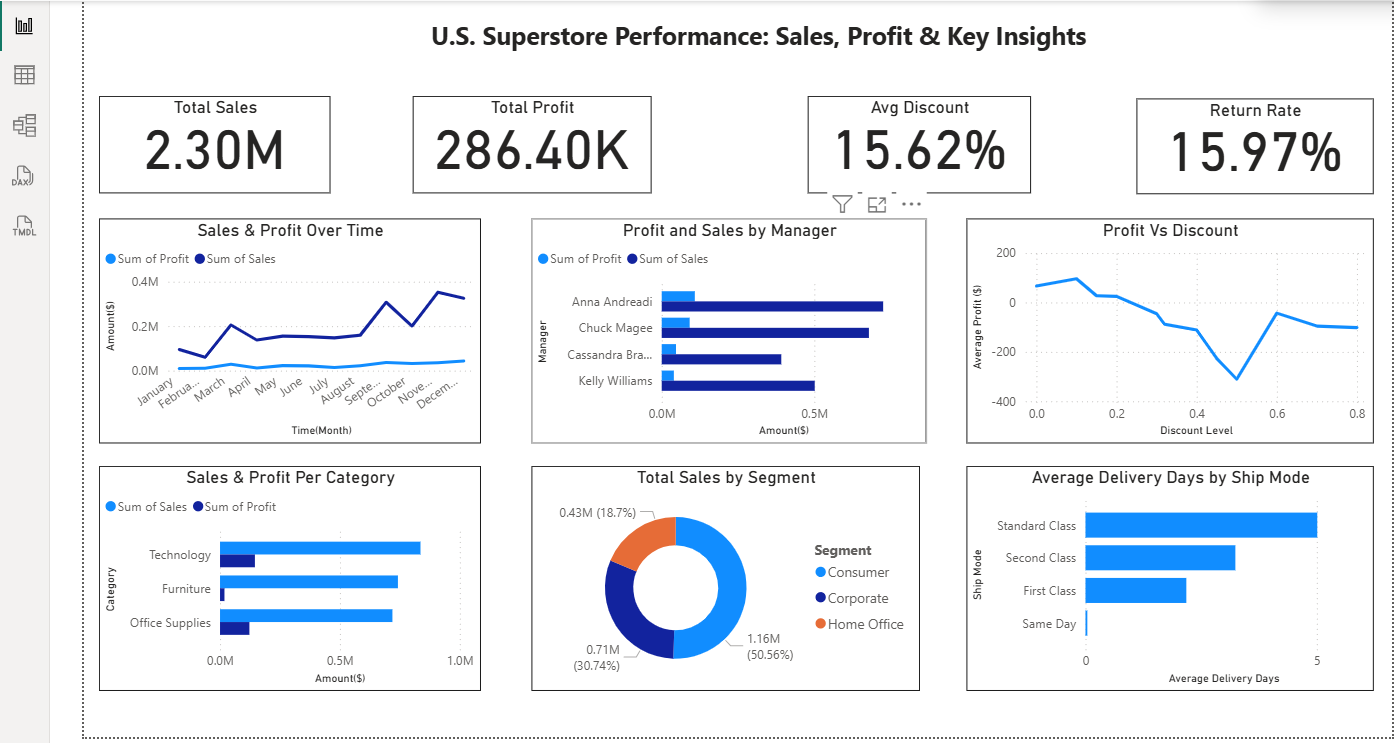

The dashboard page shown, as its layout file describes it:
{"tool":"powerbi","page":{"name":"Page 1","canvas":[1280,720],"ordinal":0},"visuals":[{"type":"card","title":"Total Sales","fields":{"Values":["superstore_dashboard_data.Sales"]},"box":[15,93.3,226.7,95],"z":0},{"type":"card","title":"Total Profit","fields":{"Values":["superstore_dashboard_data.Profit"]},"box":[321.7,93.3,233.3,95],"z":1000},{"type":"card","title":"Avg Discount","fields":{"Values":["superstore_dashboard_data.Discount"]},"box":[708.3,93.3,218.3,95],"z":2000},{"type":"card","title":"Return Rate","fields":{"Values":["superstore_dashboard_data.Return Rate"]},"box":[1030,95,231.7,93.3],"z":3000},{"type":"lineChart","title":"Sales & Profit Over Time","fields":{"Y":["superstore_dashboard_data.Profit","superstore_dashboard_data.Sales"],"Category":["superstore_dashboard_data.Order Date.Variation.Date Hierarchy.Month"]},"box":[15,213.3,373.3,220],"z":4000},{"type":"clusteredBarChart","title":"Sales & Profit Per Category","fields":{"Y":["superstore_dashboard_data.Sales","superstore_dashboard_data.Profit"],"Category":["superstore_dashboard_data.Category"]},"box":[15,455,373.3,220],"z":5000},{"type":"clusteredBarChart","title":"Profit and  Sales by Manager","fields":{"Category":["superstore_dashboard_data.Person"],"Y":["superstore_dashboard_data.Profit","superstore_dashboard_data.Sales"]},"box":[438.3,213.3,386.7,220],"z":6000},{"type":"donutChart","title":"Total Sales by Segment","fields":{"Y":["superstore_dashboard_data.Sales"],"Category":["superstore_dashboard_data.Segment"]},"box":[438.3,455,380,220],"z":7000},{"type":"lineChart","title":"Profit Vs Discount","fields":{"Category":["superstore_dashboard_data.Discount"],"Y":["superstore_dashboard_data.Profit"]},"box":[863.3,213.3,398.3,220],"z":8000},{"type":"barChart","fields":{"Category":["superstore_dashboard_data.Ship Mode"],"Y":["superstore_dashboard_data.Average Delivery Days"]},"box":[863.3,455,398.3,220],"z":9000},{"type":"textbox","box":[321.7,11.7,676.7,53.3],"z":10000}]}

Visuals, with their boxes in screenshot pixels (x1, y1, x2, y2):
"Total Sales" card: pyautogui.locateOnScreen(99, 95, 330, 192)
"Total Profit" card: pyautogui.locateOnScreen(411, 95, 649, 192)
"Avg Discount" card: pyautogui.locateOnScreen(805, 95, 1028, 192)
"Return Rate" card: pyautogui.locateOnScreen(1133, 97, 1370, 192)
"Sales & Profit Over Time" lineChart: pyautogui.locateOnScreen(99, 217, 479, 442)
"Sales & Profit Per Category" clusteredBarChart: pyautogui.locateOnScreen(99, 464, 479, 688)
"Profit and  Sales by Manager" clusteredBarChart: pyautogui.locateOnScreen(530, 217, 924, 442)
"Total Sales by Segment" donutChart: pyautogui.locateOnScreen(530, 464, 918, 688)
"Profit Vs Discount" lineChart: pyautogui.locateOnScreen(963, 217, 1369, 442)
barChart - superstore_dashboard_data.Ship Mode x superstore_dashboard_data.Average Delivery Days: pyautogui.locateOnScreen(963, 464, 1369, 688)
textbox: pyautogui.locateOnScreen(411, 12, 1101, 66)
